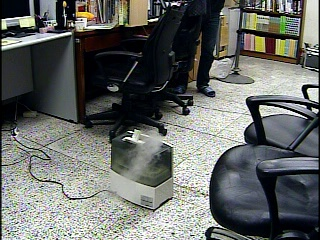smoke: (113, 126, 168, 181)
